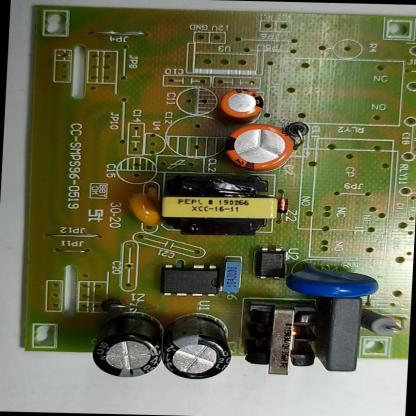Cap1: (219, 119, 302, 177)
Cap2: (210, 83, 270, 124)
Cap3: (154, 308, 236, 382)
Cap4: (88, 305, 172, 380)
MOSFET: (156, 260, 228, 301)
Mov: (278, 262, 384, 300)
Resistor: (358, 307, 407, 337)
Transformer: (156, 171, 284, 238), (242, 298, 322, 378)
